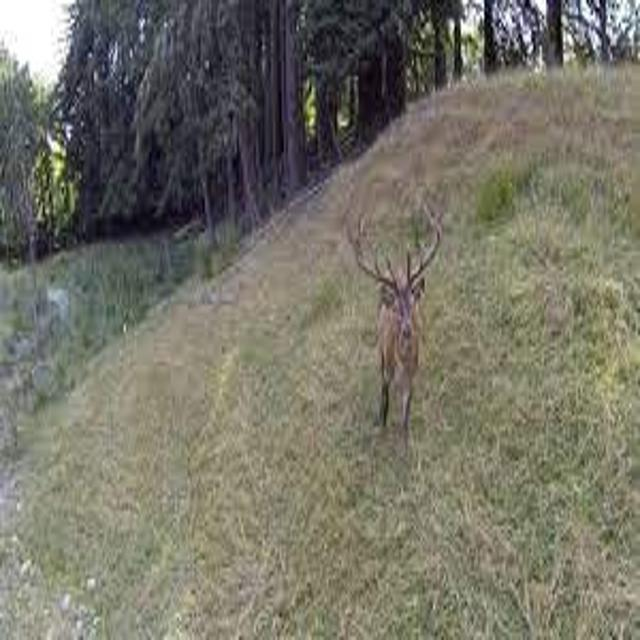deer: (312, 172, 482, 474)
